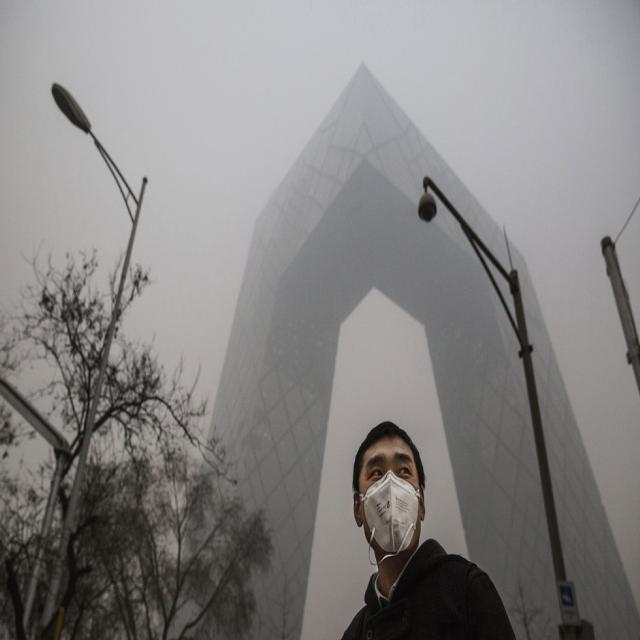mask: (362, 445, 418, 557)
